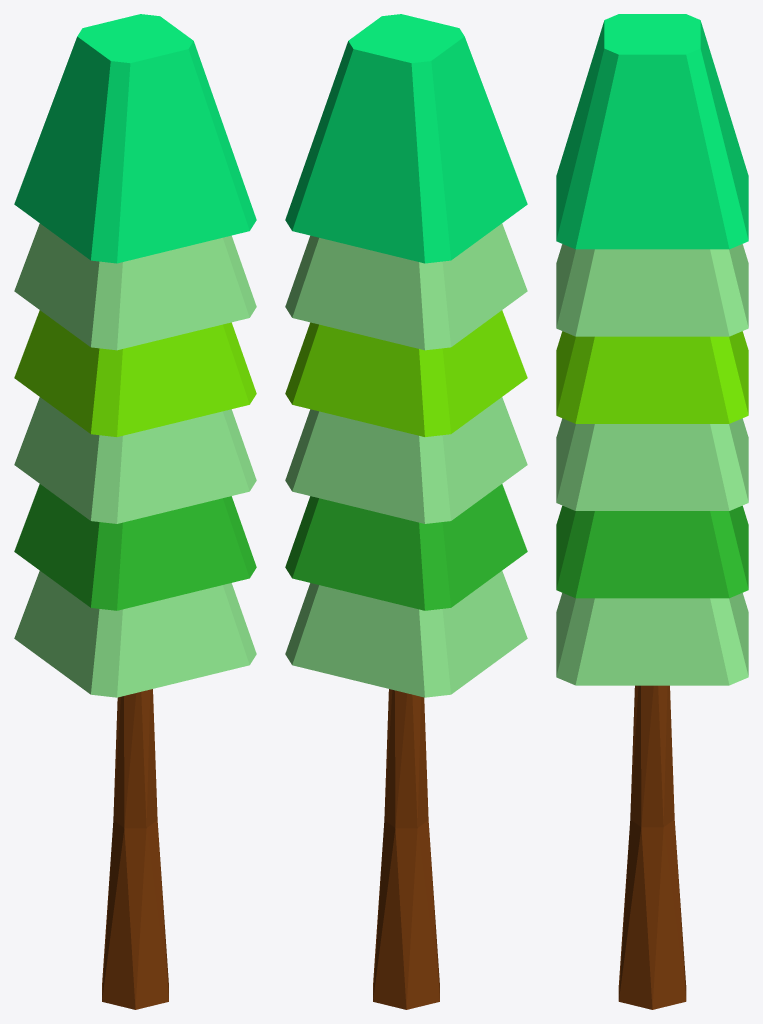
File: popsicle_tree_large.fbx
3 views of the same model, side by side, from view 1: azimuth 30°, elevation 25°; view 2: azimuth 150°, elevation 25°; view 3: azimuth 270°, elevation 25° (orthographic).
Visible parts, largest first — view 1: G-Object.005, G-Object.004, G-Object.002, G-Object.006, G-Object.003, G-Object.001, G-Object.007; view 2: G-Object.005, G-Object.004, G-Object.002, G-Object.006, G-Object.003, G-Object.001, G-Object.007; view 3: G-Object.005, G-Object.004, G-Object.003, G-Object.006, G-Object.002, G-Object.001, G-Object.007.
Boxes of the visible parts, x1,y1,x2,y2 form: G-Object.005: (14,14,256,263); G-Object.004: (14,484,256,610); G-Object.002: (14,310,256,436); G-Object.006: (14,223,256,350); G-Object.003: (14,571,256,697); G-Object.001: (14,397,256,523); G-Object.007: (102,689,168,1009); G-Object.005: (285,14,527,263); G-Object.004: (285,484,527,610); G-Object.002: (285,310,527,436); G-Object.006: (285,223,527,350); G-Object.003: (285,571,527,697); G-Object.001: (285,397,527,523); G-Object.007: (373,689,439,1009); G-Object.005: (556,14,748,249); G-Object.004: (556,505,748,598); G-Object.003: (556,593,748,685); G-Object.006: (556,244,748,336); G-Object.002: (556,331,748,423); G-Object.001: (556,418,748,510); G-Object.007: (618,685,686,1009).
Bounding box in the file's own units: 200 × 1100 × 200.
